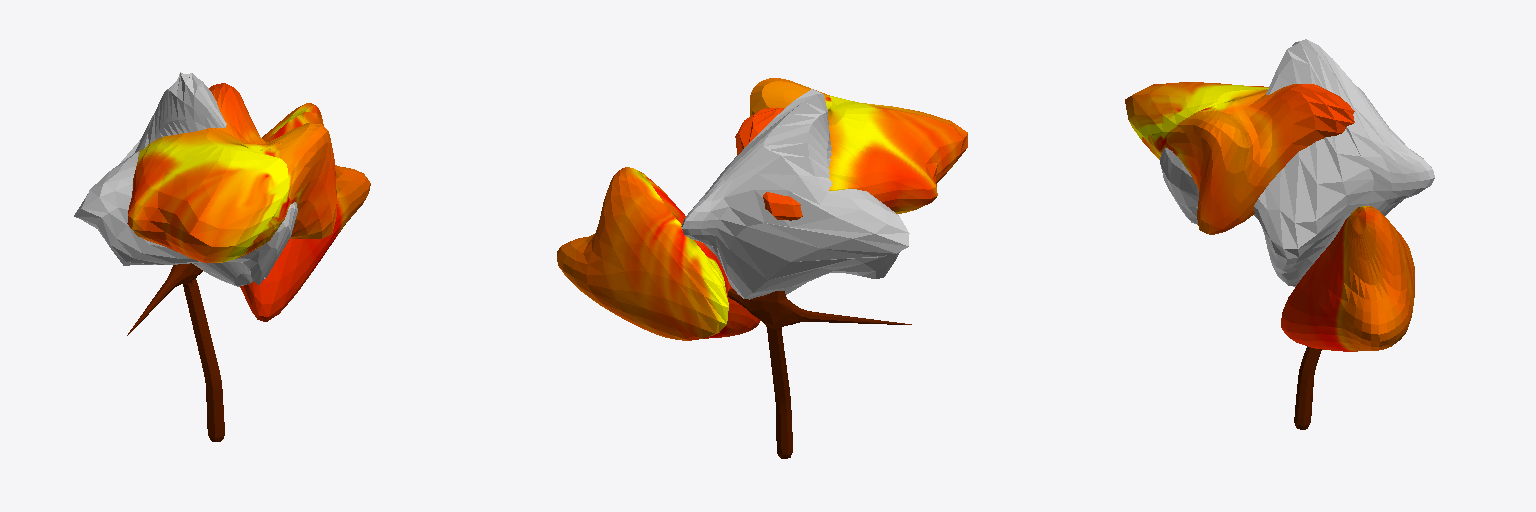
3 renders of one model, left to right at view 1: azimuth 30°, elevation 25°; view 2: azimuth 150°, elevation 25°; view 3: azimuth 270°, elevation 25°, orthographic.
Parts seen in each view (by area): view 1: Cube, Sphere; view 2: Cube, Sphere; view 3: Cube, Sphere.
Boxes of the visible parts, x1=… form: Cube: x1=127, y1=83, x2=370, y2=441; Sphere: x1=74, y1=72, x2=297, y2=286; Cube: x1=557, y1=78, x2=967, y2=458; Sphere: x1=681, y1=89, x2=909, y2=299; Cube: x1=1125, y1=82, x2=1414, y2=429; Sphere: x1=1160, y1=39, x2=1434, y2=286.
Bounding box in the file's own units: 4.38 × 4.85 × 3.64.
2 materials, 1 textured.